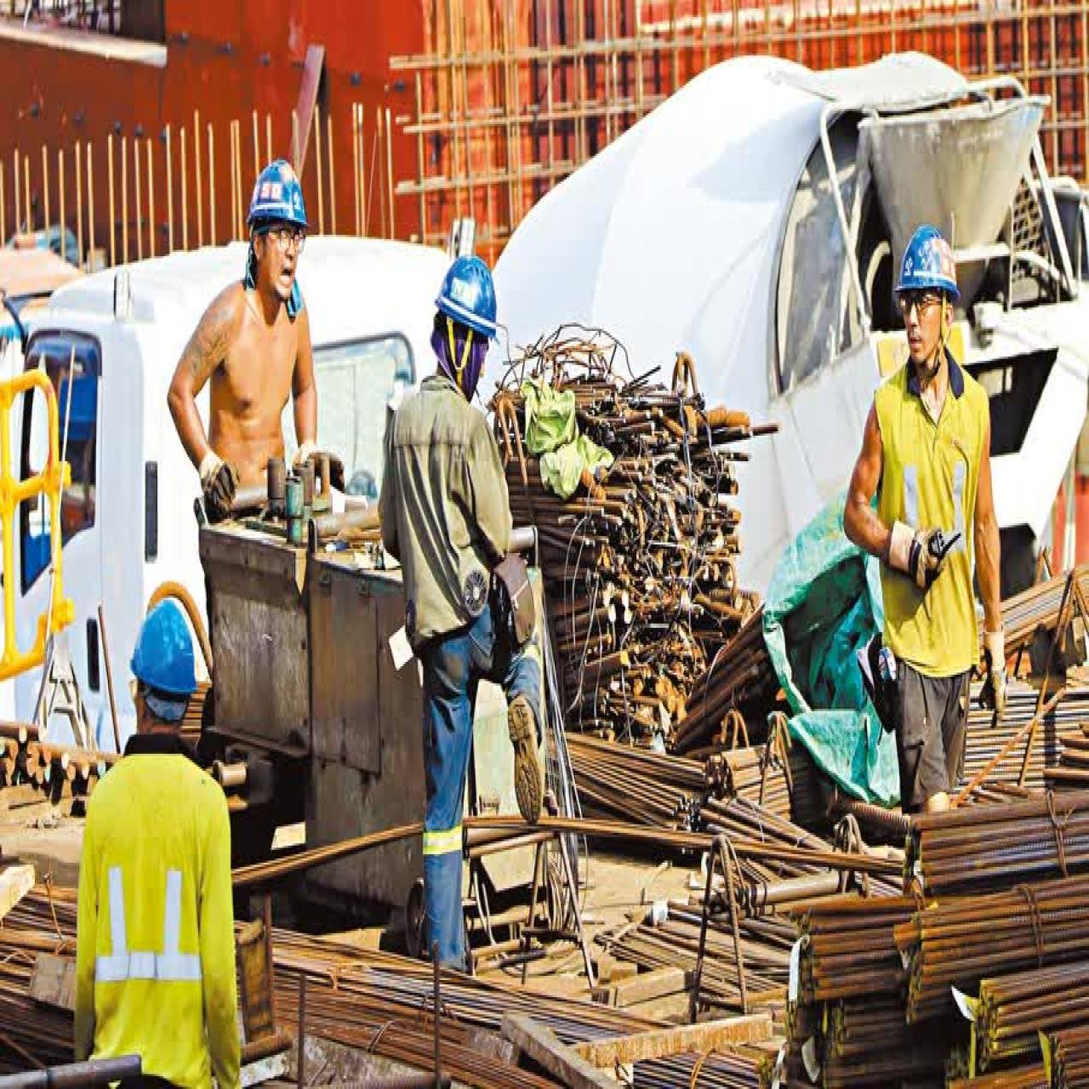NO_Safety_Vest: (75, 751, 229, 1079), (869, 359, 995, 687), (383, 385, 515, 653), (199, 272, 323, 500)
Person: (833, 202, 1034, 851), (373, 249, 546, 986), (46, 563, 247, 1089), (164, 140, 338, 559)
